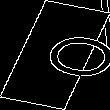O_W: (8, 27, 102, 83)
